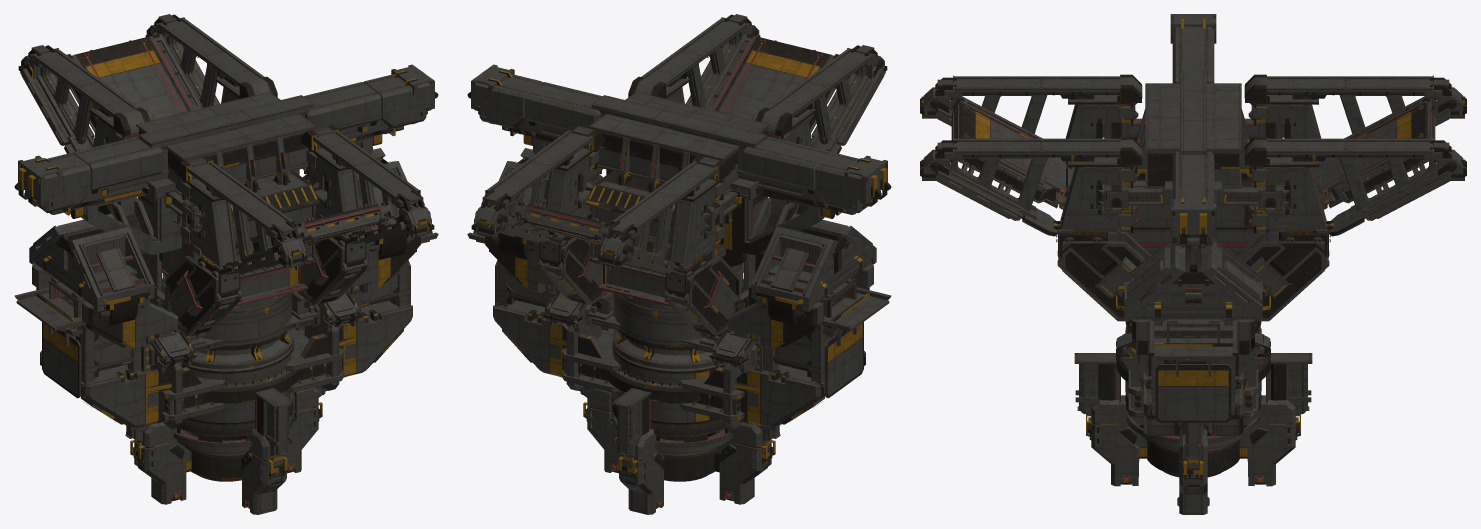
The model's file is Drill_Top_L1.fbx.
3 views of the same model, side by side, from view 1: azimuth 30°, elevation 25°; view 2: azimuth 150°, elevation 25°; view 3: azimuth 270°, elevation 25° (orthographic).
Visible parts, largest first — view 1: El5, El4, El6, El1, El9, El2, El11, El10, El7, El8, El3; view 2: El5, El4, El6, El1, El9, El2, El11, El10, El7, El8, El3; view 3: El5, El1, El10, El6, El2, El7, El8, El4, El9, El11.
Boxes of the visible parts, left/top/right/bottom form: El5: left=18, top=14, right=434, bottom=275; El4: left=14, top=64, right=438, bottom=266; El6: left=136, top=92, right=319, bottom=306; El1: left=93, top=87, right=368, bottom=335; El9: left=40, top=292, right=412, bottom=428; El2: left=14, top=214, right=438, bottom=398; El11: left=161, top=273, right=300, bottom=481; El10: left=122, top=386, right=327, bottom=514; El7: left=56, top=32, right=396, bottom=253; El8: left=29, top=148, right=413, bottom=311; El3: left=157, top=289, right=319, bottom=352; El5: left=471, top=14, right=887, bottom=275; El4: left=467, top=64, right=891, bottom=266; El6: left=586, top=92, right=769, bottom=306; El1: left=537, top=87, right=812, bottom=335; El9: left=493, top=292, right=865, bottom=428; El2: left=467, top=214, right=891, bottom=398; El11: left=605, top=273, right=744, bottom=481; El10: left=578, top=386, right=783, bottom=514; El7: left=509, top=32, right=849, bottom=253; El8: left=492, top=148, right=876, bottom=311; El3: left=586, top=289, right=748, bottom=352; El5: left=920, top=74, right=1466, bottom=236; El1: left=1053, top=103, right=1333, bottom=321; El10: left=1074, top=353, right=1312, bottom=514; El6: left=1121, top=70, right=1265, bottom=290; El2: left=1125, top=297, right=1261, bottom=422; El7: left=951, top=96, right=1435, bottom=209; El8: left=1116, top=137, right=1270, bottom=323; El4: left=1163, top=14, right=1223, bottom=272; El9: left=1116, top=330, right=1270, bottom=435; El11: left=1116, top=291, right=1270, bottom=477.
Size of the model in its own units: 3175 by 2677 by 3590.
